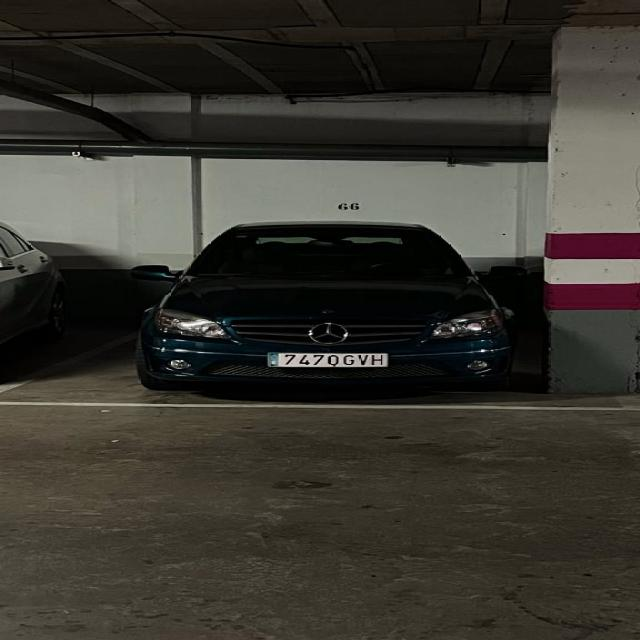License-Plate: (266, 350, 388, 368)
